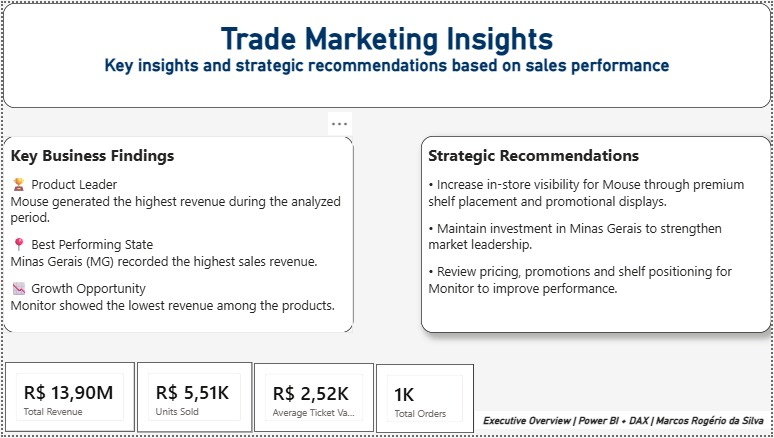

The page's visual inventory and layout, read from the dashboard file:
{"tool":"powerbi","page":{"name":"Page 2","canvas":[1280,720],"ordinal":1},"visuals":[{"type":"textbox","box":[0,0,1280.3,175.4],"z":0},{"type":"cardVisual","fields":{"Data":["Vendas.Receita Total"]},"box":[4,598,216,116],"z":1000},{"type":"cardVisual","fields":{"Data":["Vendas.Volume Vendido"]},"box":[223.3,598.3,191.7,116.7],"z":2000},{"type":"cardVisual","fields":{"Data":["Vendas.Ticket Médio"]},"box":[418.3,600,200,115],"z":3000},{"type":"cardVisual","fields":{"Data":["Vendas.Total Pedidos"]},"box":[621.7,601.7,163.3,115],"z":4000},{"type":"textbox","box":[0,222,584,328],"z":6001},{"type":"textbox","box":[696,222,584,328],"z":6002},{"type":"textbox","box":[786.7,680,493.3,30],"z":6003}]}

Visuals, with their boxes in screenshot pixels (x1, y1, x2, y2), scaled from the page's 1280x720 canvas onto the 774x438 screenshot:
textbox: region(0, 0, 773, 107)
cardVisual - Vendas.Receita Total: region(2, 364, 133, 434)
cardVisual - Vendas.Volume Vendido: region(135, 364, 251, 435)
cardVisual - Vendas.Ticket Médio: region(253, 365, 374, 435)
cardVisual - Vendas.Total Pedidos: region(376, 366, 475, 436)
textbox: region(0, 135, 353, 335)
textbox: region(421, 135, 773, 335)
textbox: region(476, 414, 773, 432)
